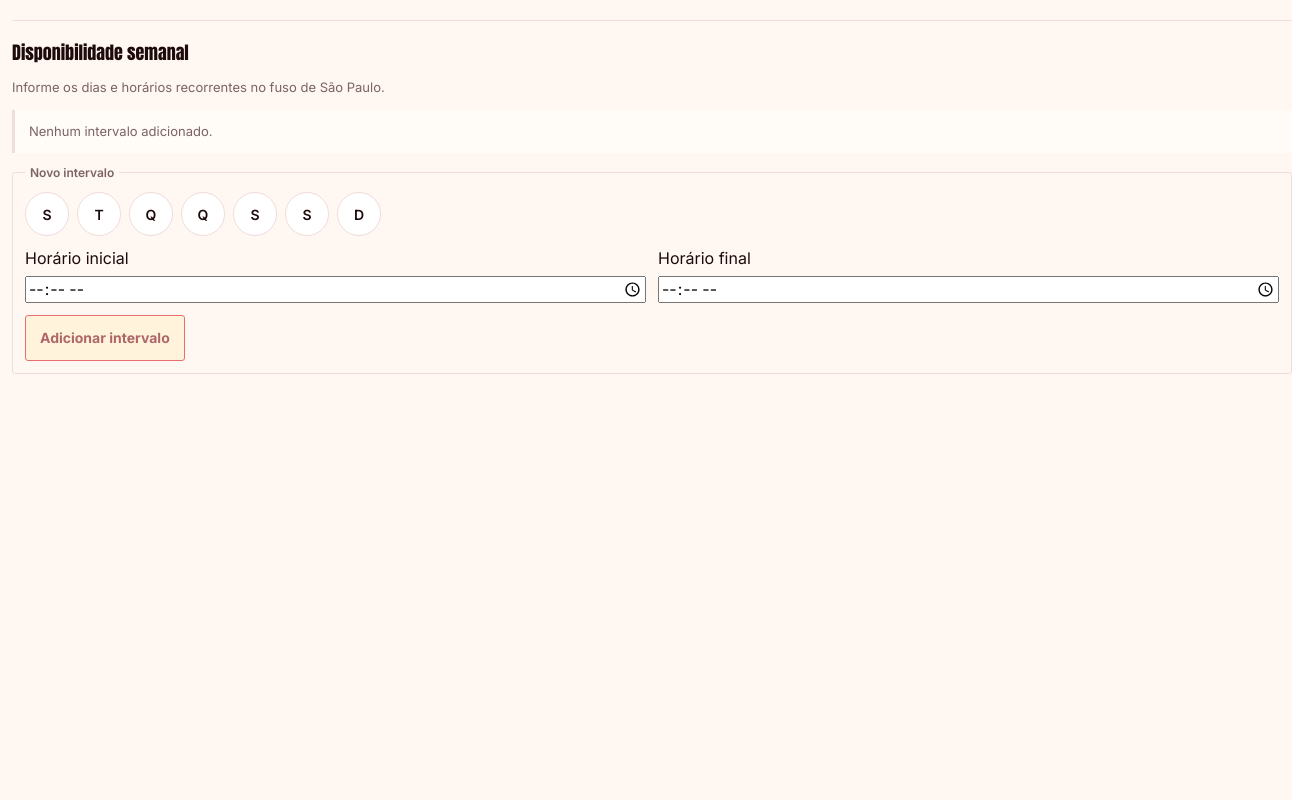
AvailabilityEditor › adds one independent interval for each selected weekday
Click the button named "Segunda-feira": (47, 214) [25,192,69,236]
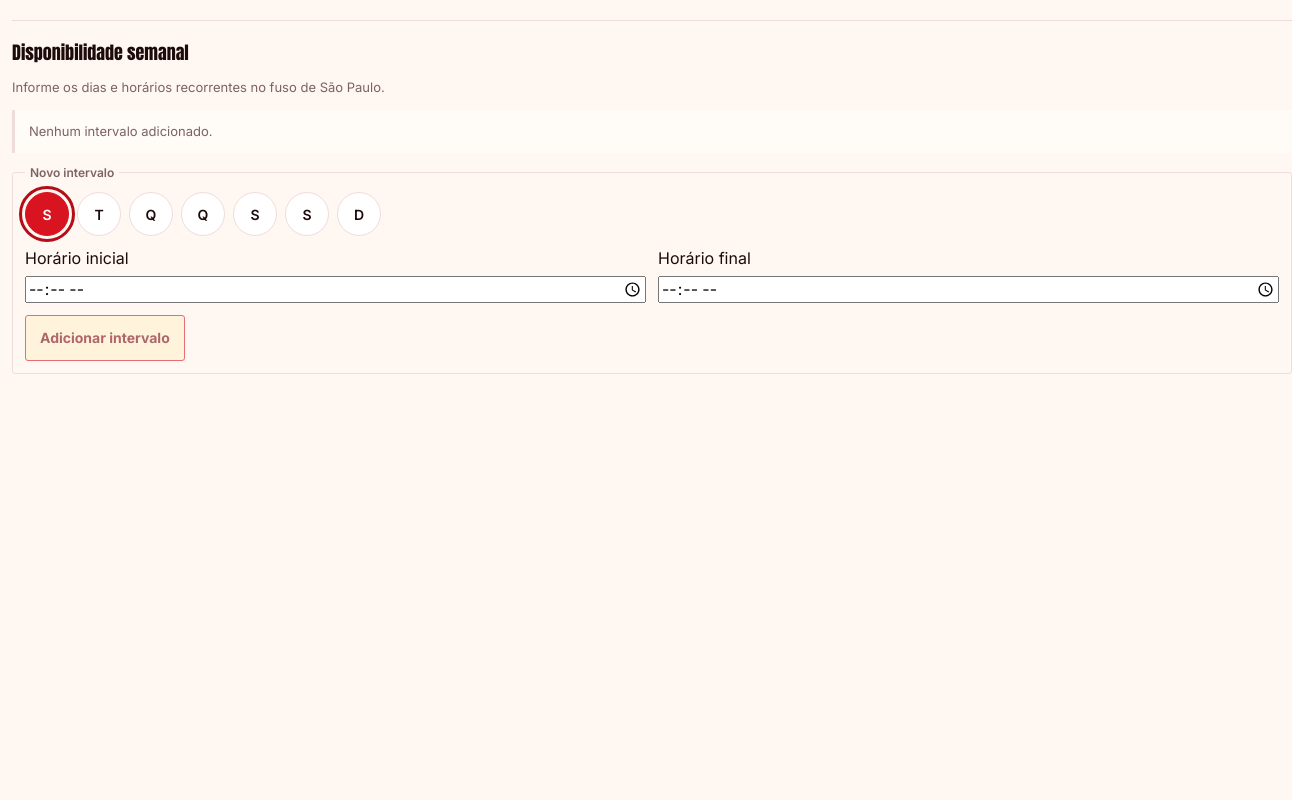
Click the button named "Quarta-feira": (151, 214) [129,192,173,236]
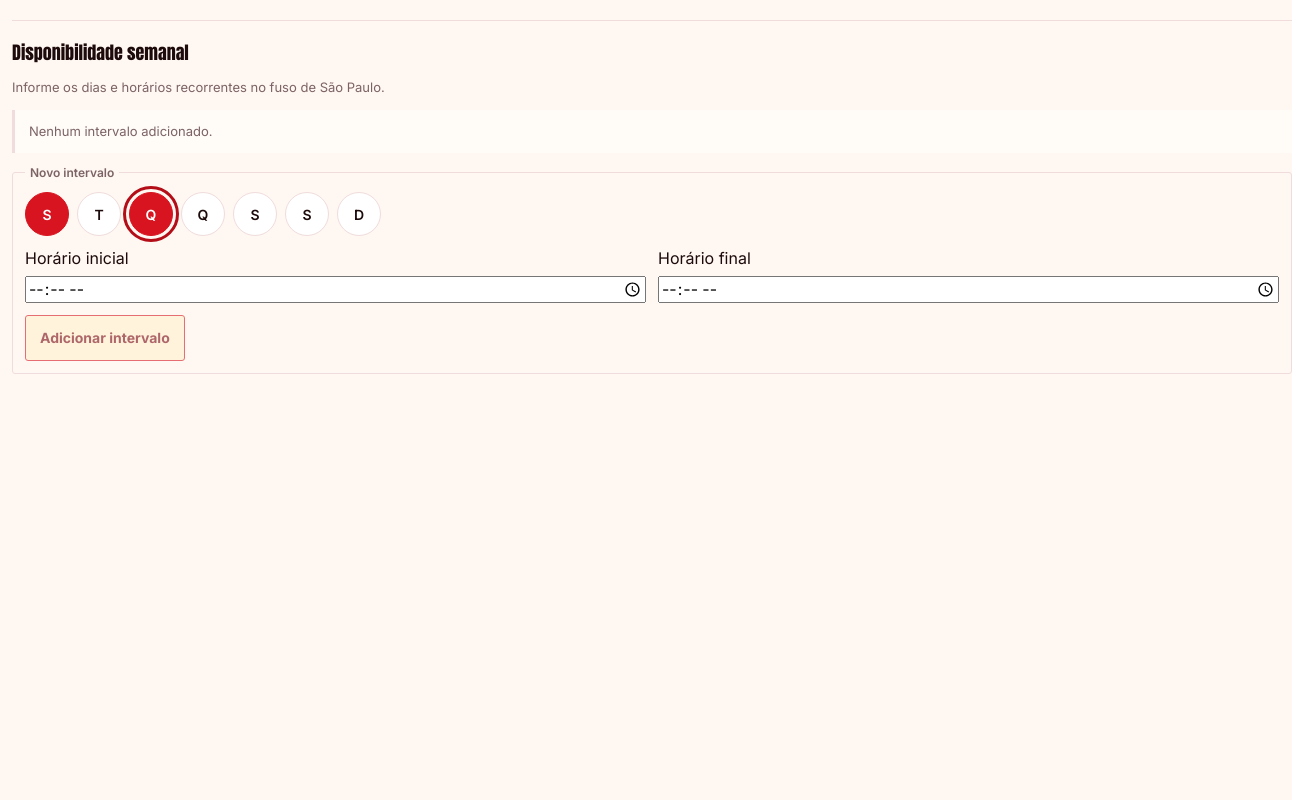
In the time field labelled "Horário inicial": (336, 289) [25,276,646,303], type "09:00"
In the time field labelled "Horário final": (968, 289) [658,276,1279,303], type "12:00"
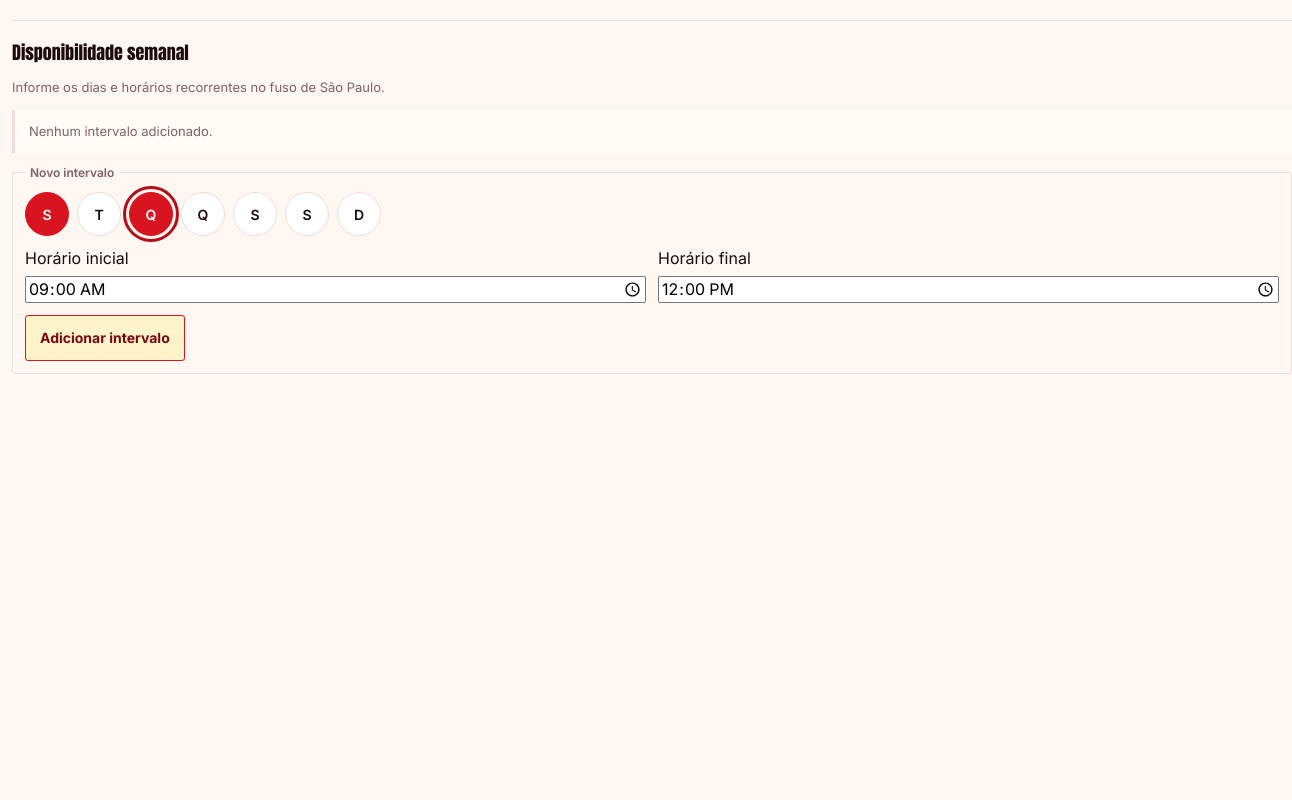
Click the button "Adicionar intervalo": (105, 338) [25,315,185,361]
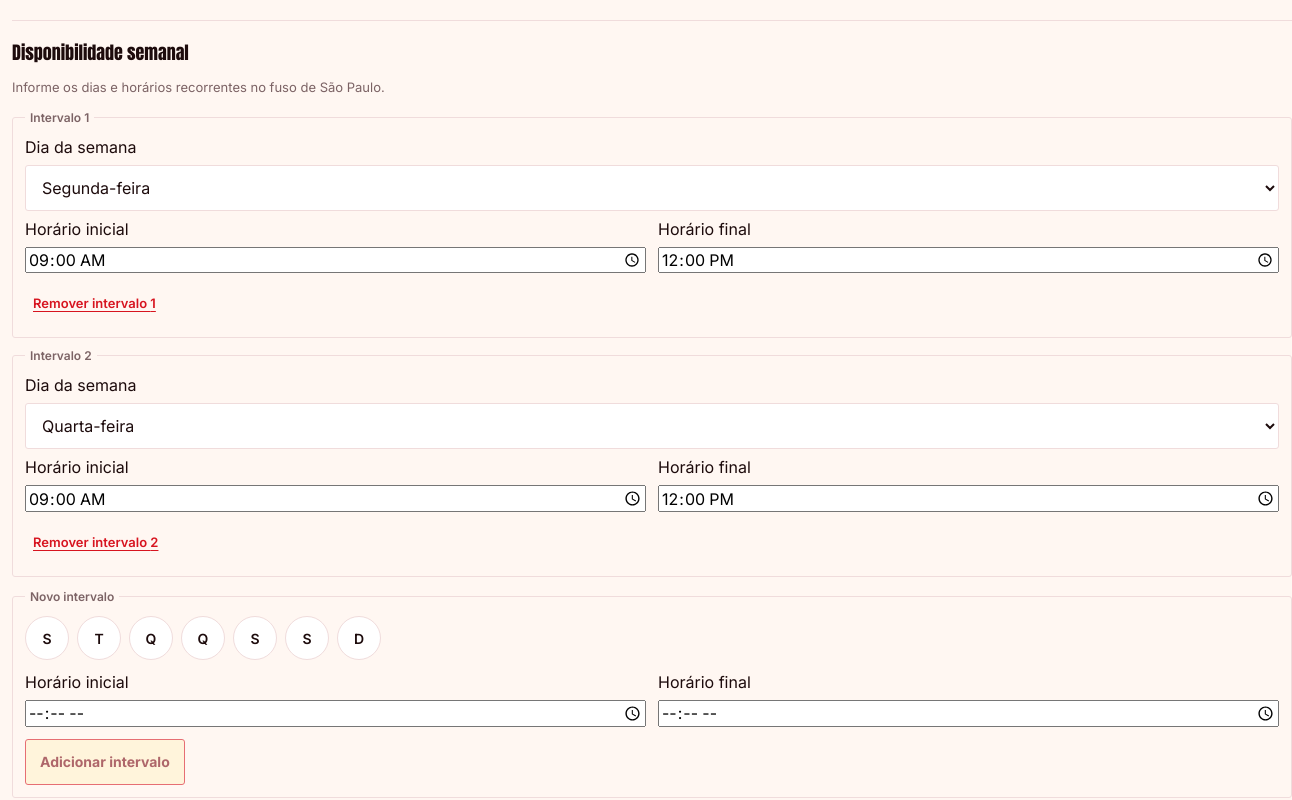
Replace the text in the 1st time field labelled "Horário inicial" with "10:00": (336, 260) [25,246,646,273]
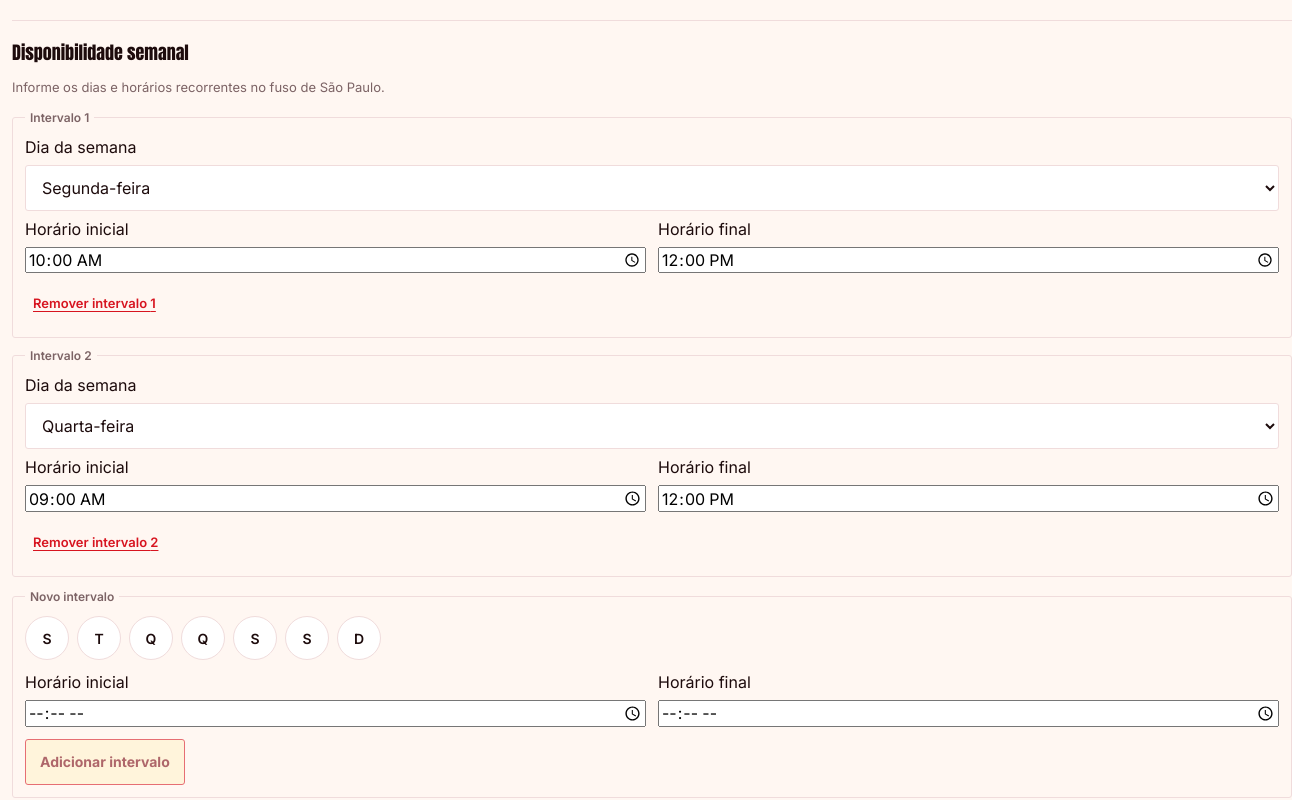
Expected: the 2nd time field labelled "Horário inicial" holds "09:00", [25,485,646,512]
Click the button "Remover intervalo 1": (94, 303) [25,281,164,325]
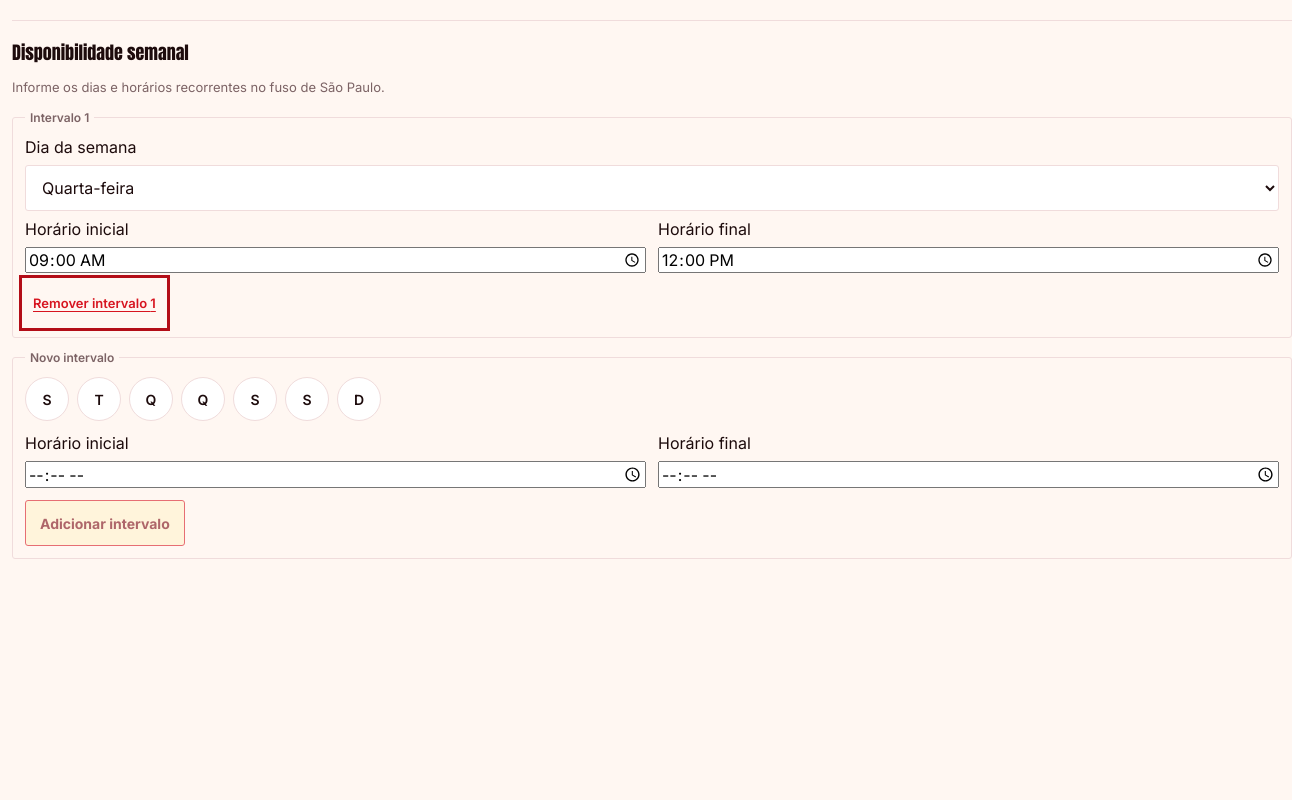
Expected: the number of elements "Intervalo" is 1, [12,110,1291,338]
